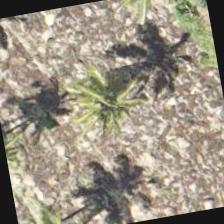Kelapa_Sawit: (58, 50, 162, 154)
